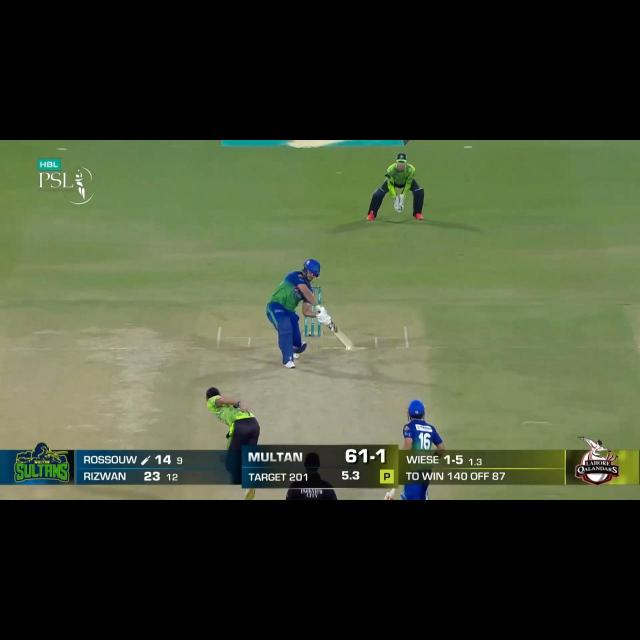bat: (325, 322, 356, 349)
toe: (342, 338, 355, 350)
